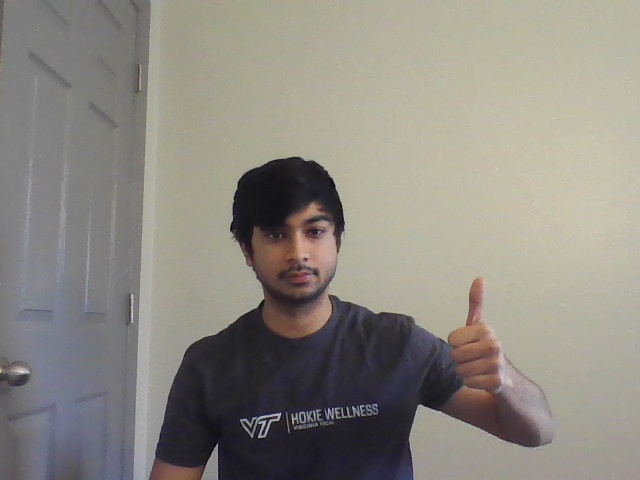confirm: (441, 274, 524, 395)
